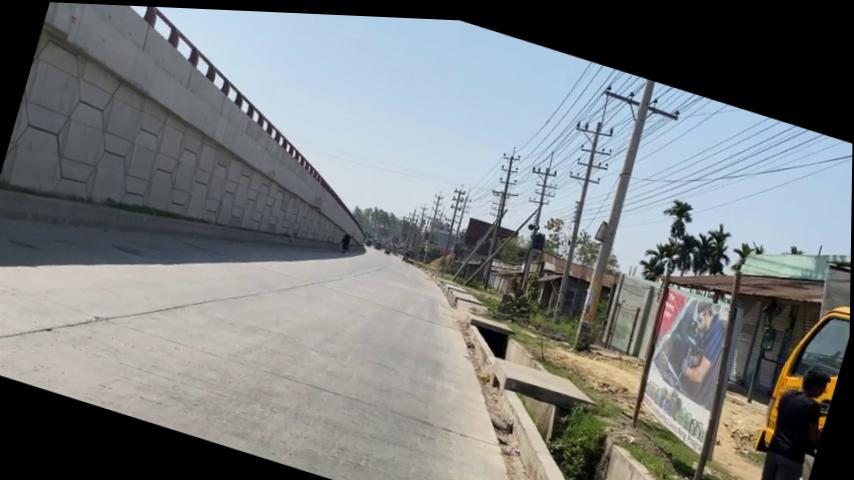Fallen-tree: (1, 0, 430, 278)
Fence: (738, 350, 838, 480)
Garbage: (533, 59, 686, 355), (568, 70, 661, 348), (523, 106, 618, 322), (673, 257, 763, 480)
Garbage-bin: (520, 419, 701, 480), (468, 305, 534, 361)
Rickshaw: (753, 278, 851, 461)
